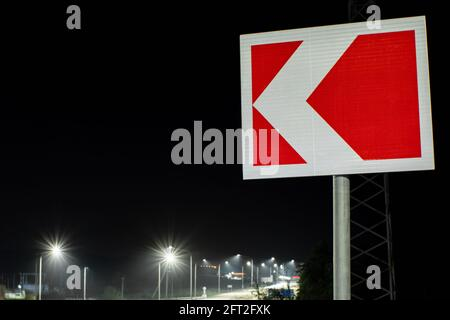left turn: (238, 28, 425, 170)
